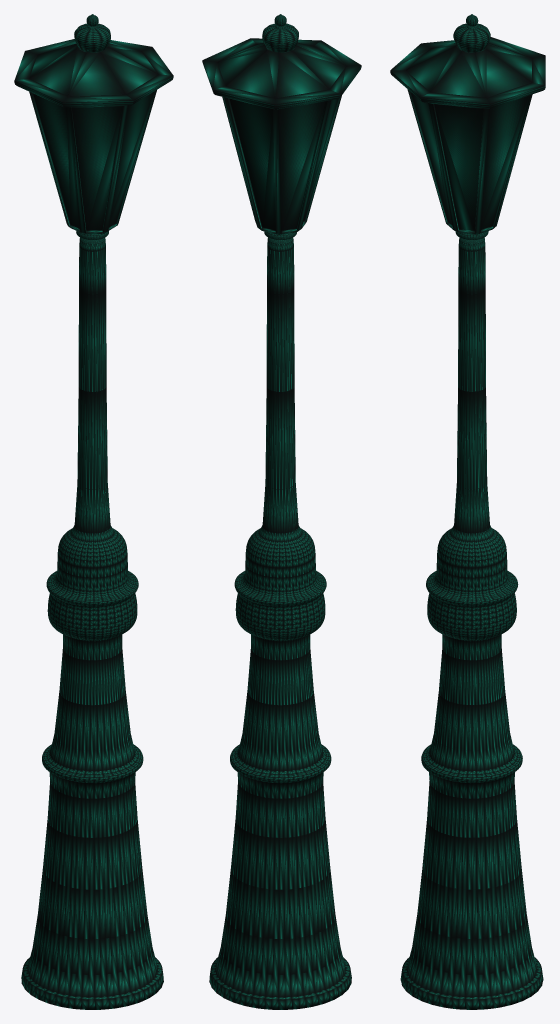
The model's file is Lampara.obj.
The picture shows the model from 3 angles, left to right: view 1: azimuth 30°, elevation 25°; view 2: azimuth 150°, elevation 25°; view 3: azimuth 270°, elevation 25°; orthographic projection.
Parts seen in each view (by area): view 1: Cylinder.002_Material.002; view 2: Cylinder.002_Material.002; view 3: Cylinder.002_Material.002.
Boxes of the visible parts, <box> form: Cylinder.002_Material.002: <box>14,14,173,1009</box>; Cylinder.002_Material.002: <box>202,14,361,1009</box>; Cylinder.002_Material.002: <box>390,14,545,1009</box>.
Size of the model in its own units: 0.8209 by 5.48 by 0.8004.
Materials: 1 (1 with a texture image).
